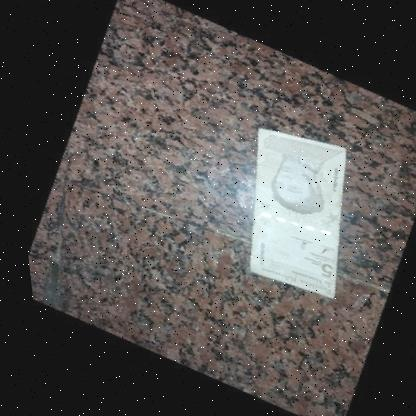five-front-vef: (227, 127, 357, 298)
